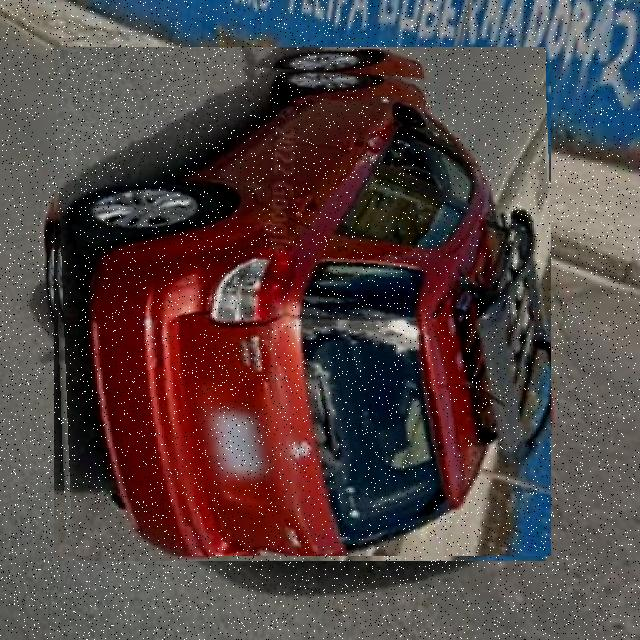car: (49, 54, 552, 557)
